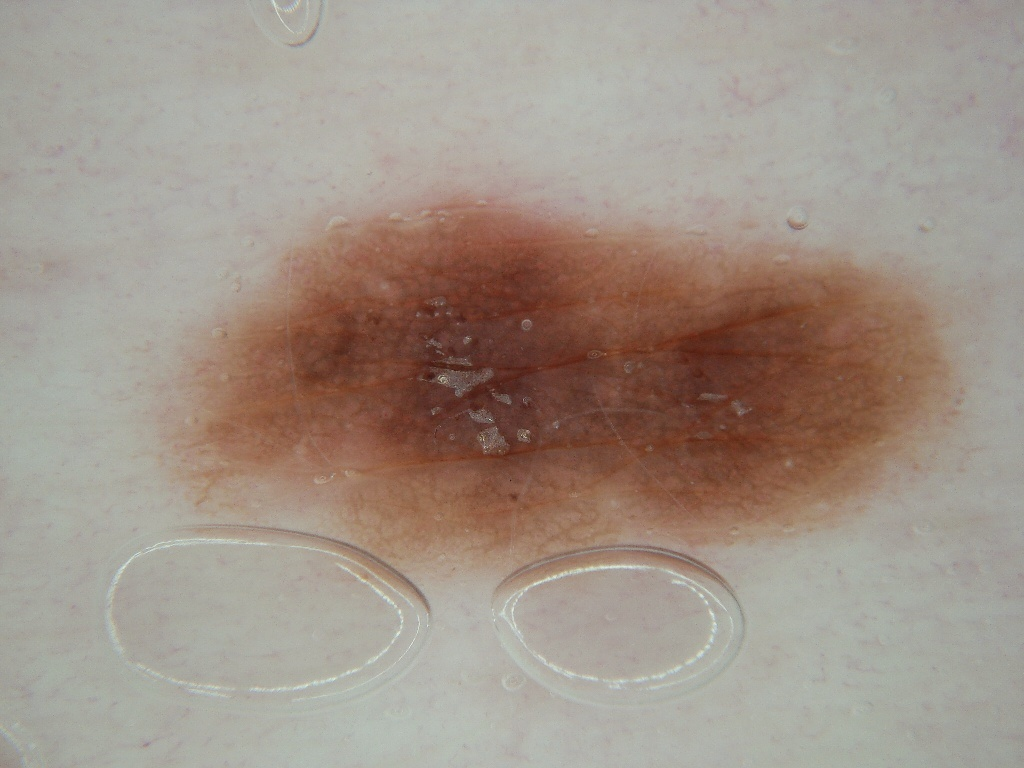Detected Lesion: (151, 192, 963, 589)
